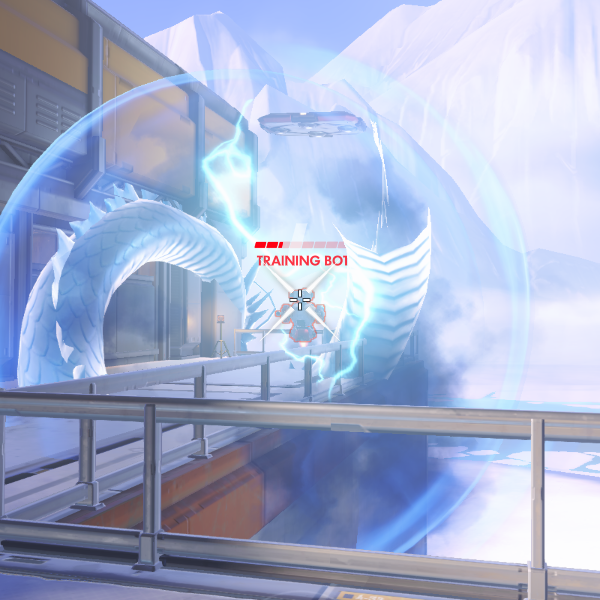hpbar: (254, 241, 347, 249)
